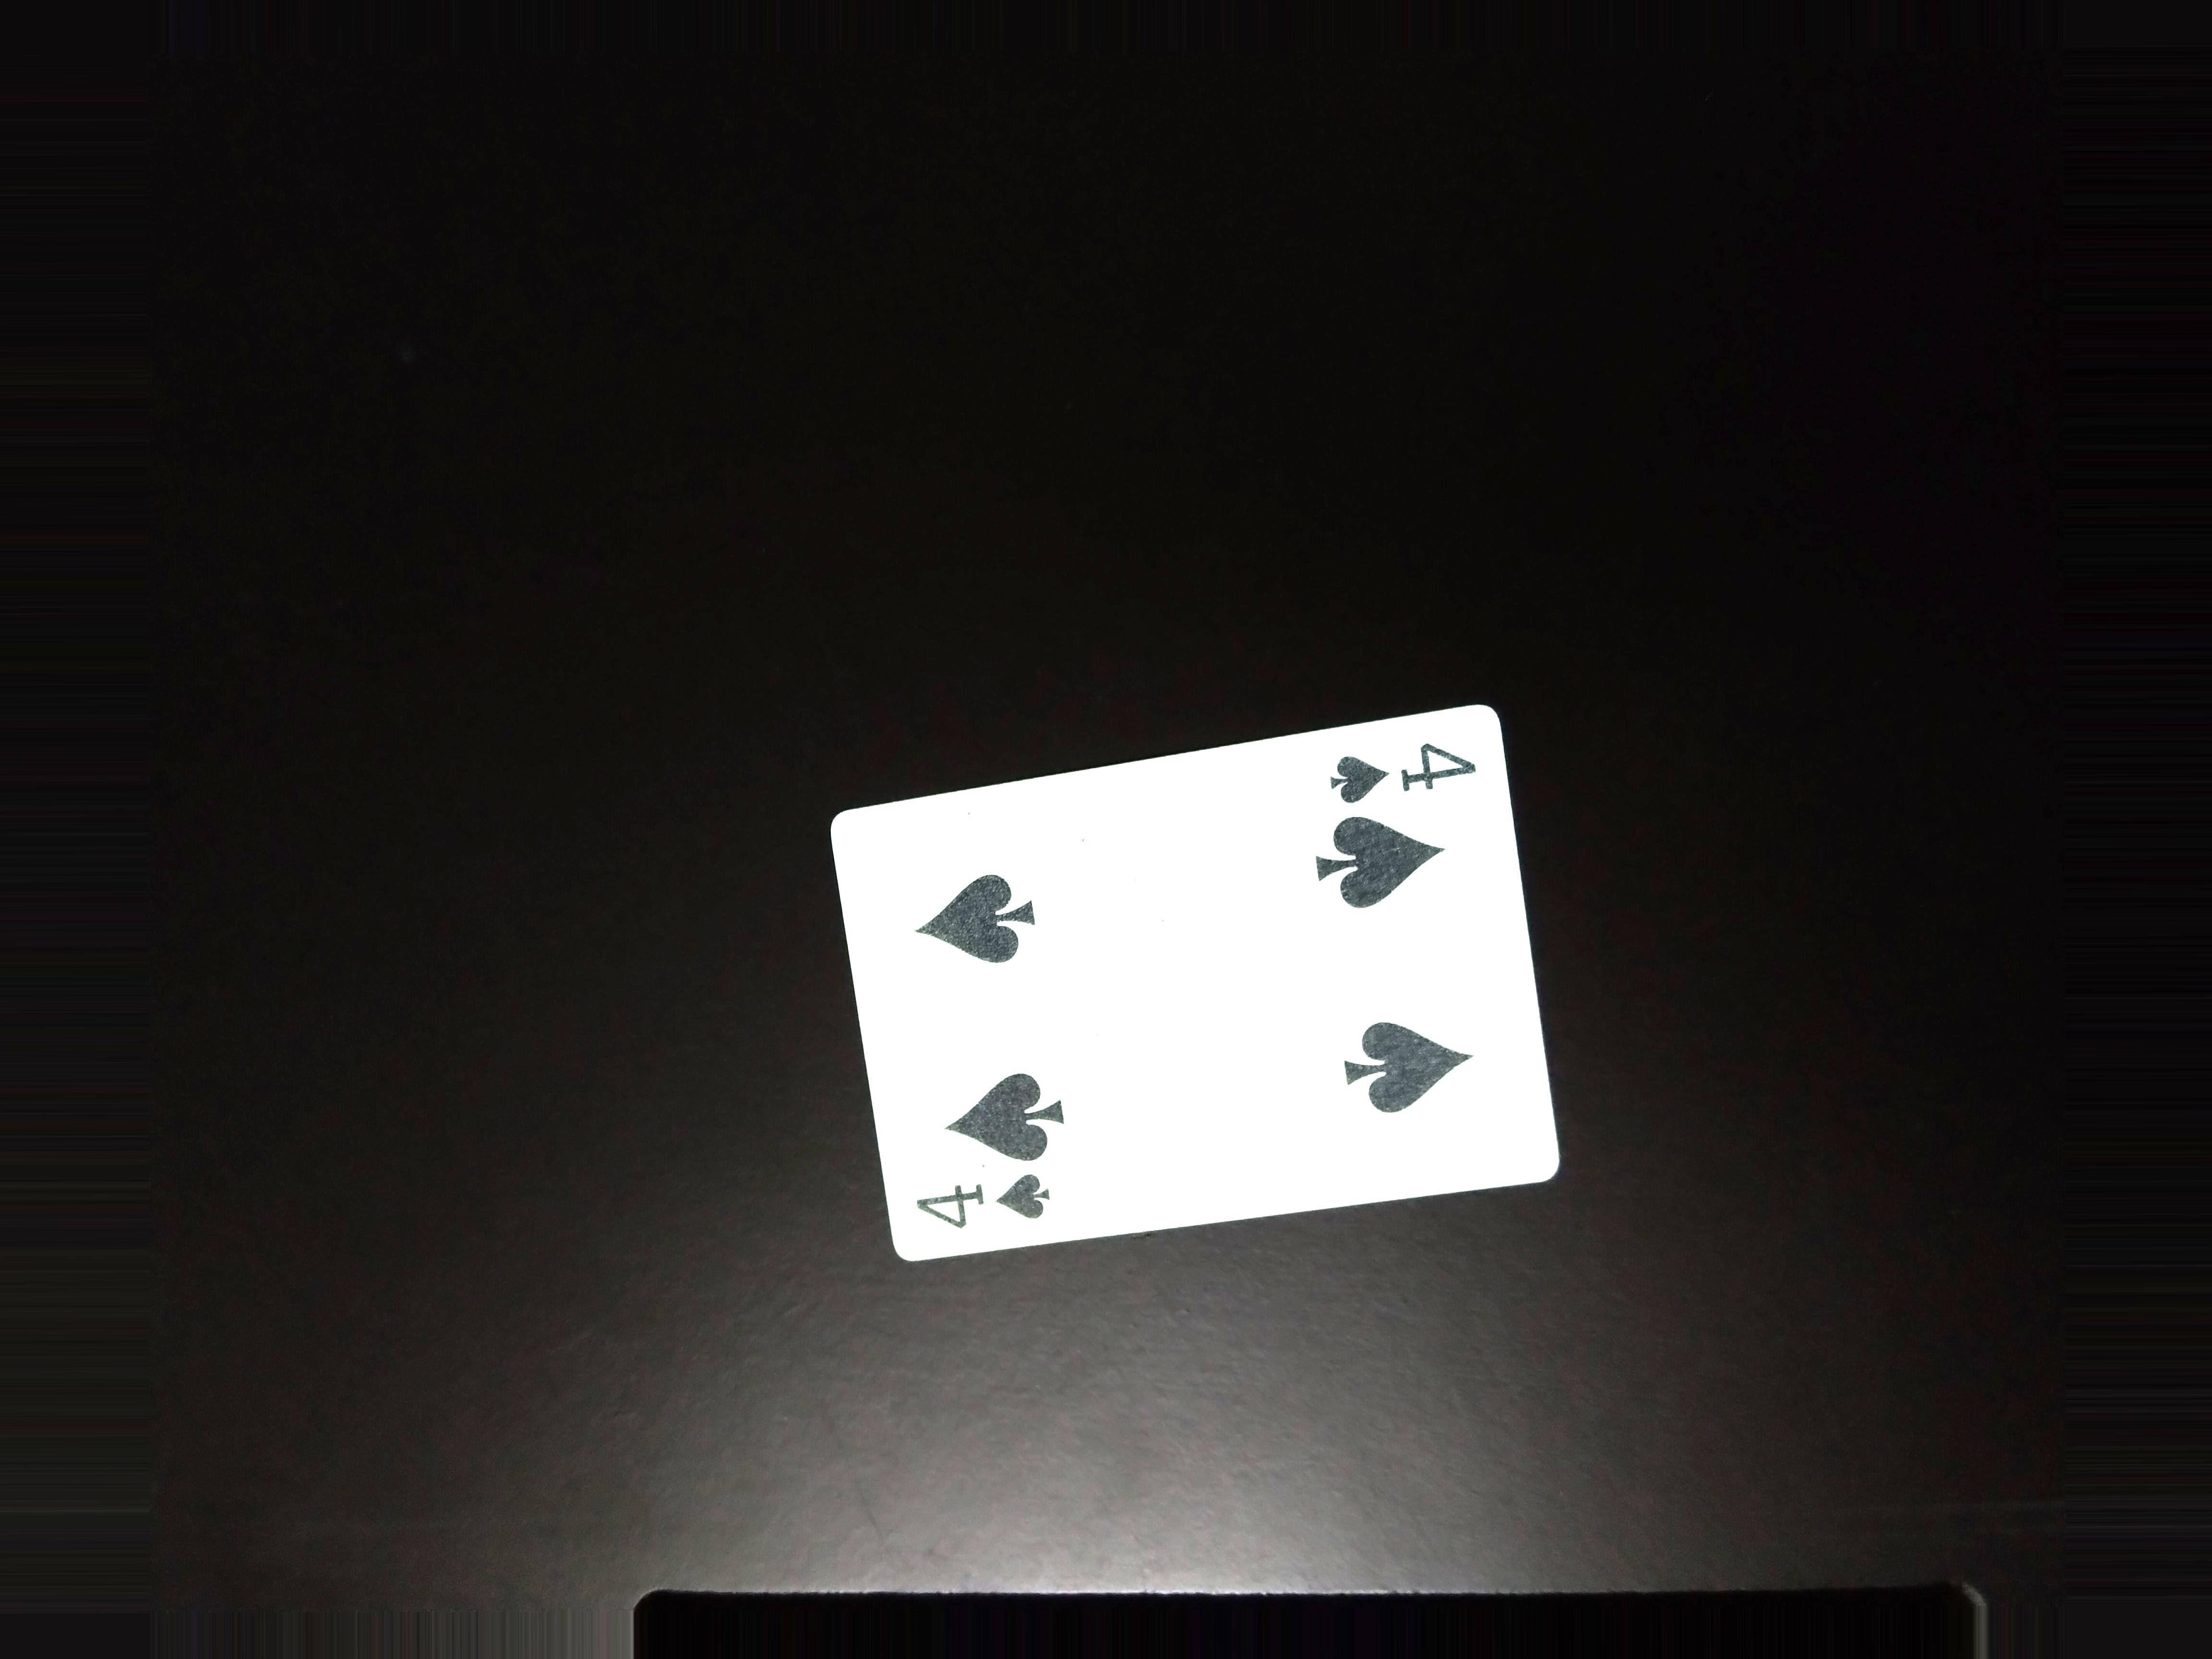4S: (900, 1173, 1076, 1232)
